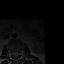CCS_normal: (15, 50, 17, 58)
LFS_normal: (19, 50, 21, 56)
LLS_normal: (17, 50, 19, 56)
RFS_normal: (10, 50, 13, 56)
RLS_normal: (13, 51, 15, 57)
